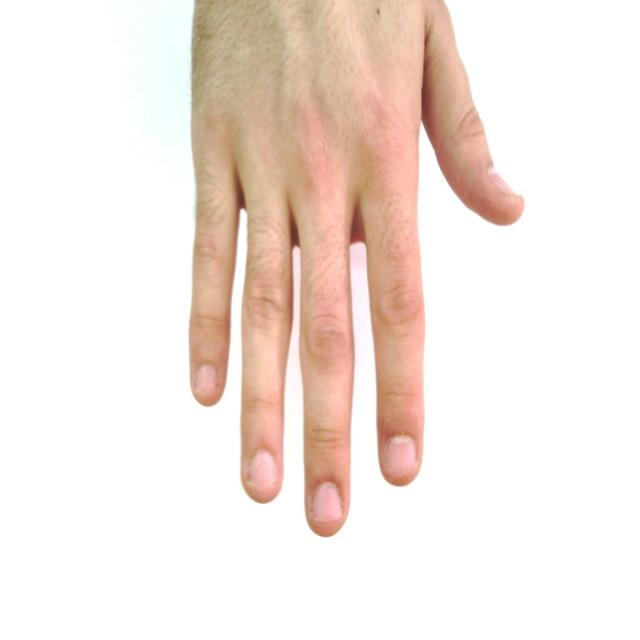others: (179, 1, 531, 558)
